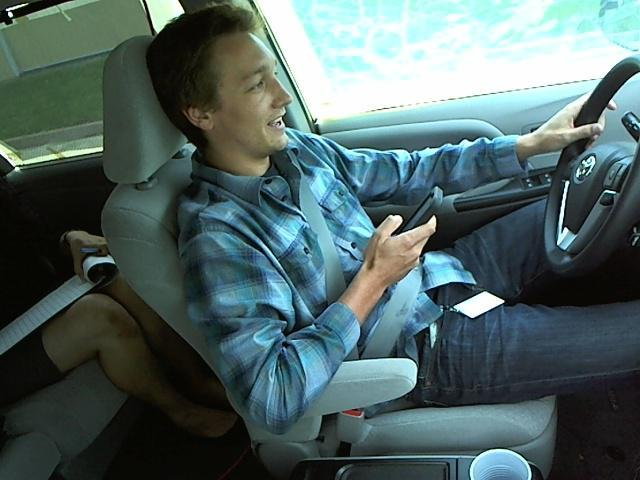PhoneUse: (388, 176, 448, 259)
